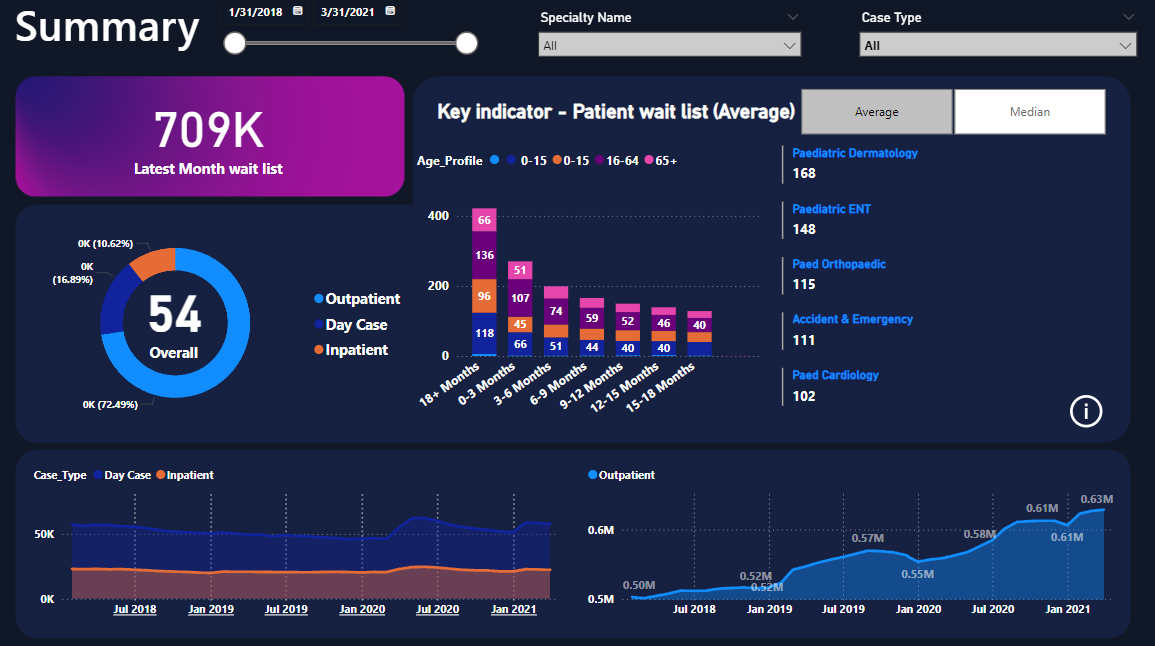

This screenshot's page, from the dashboard's own definition file:
{"tool":"powerbi","page":{"name":"Summary","canvas":[1280,720],"ordinal":0},"visuals":[{"type":"card","fields":{"Values":["All Data.Latest Month wait list"]},"box":[32,96,416,112],"z":0},{"type":"slicer","fields":{"Values":["Table.Calc Method"]},"box":[864,96,384,64],"z":1000},{"type":"donutChart","fields":{"Category":["All Data.Case_Type"],"Y":["All Data.Avg / Med wait list"]},"box":[48,240,416,240],"z":2000},{"type":"columnChart","fields":{"Y":["All Data.Avg / Med wait list"],"Category":["All Data.Time_Bands"],"Series":["All Data.Age_Profile"]},"box":[463.8,160.5,389.7,319.7],"z":3000},{"type":"multiRowCard","fields":{"Values":["All Data.Avg / Med wait list","All Data.Specialty_Name"]},"box":[864,160,384,320],"z":4000},{"type":"lineChart","fields":{"Category":["All Data.Archive_Date"],"Y":["Sum(All Data.Total)"],"Series":["All Data.Case_Type"]},"box":[48,512,592,176],"z":5000},{"type":"lineChart","fields":{"Category":["All Data.Archive_Date"],"Y":["Sum(All Data.Total)"],"Series":["All Data.Case_Type"]},"box":[656,512,592,176],"z":6000},{"type":"slicer","fields":{"Values":["All Data.Archive_Date"]},"box":[240,0,304,80],"z":7000},{"type":"slicer","fields":{"Values":["All Data.Specialty_Name"]},"box":[592,16,304,80],"z":8000},{"type":"slicer","fields":{"Values":["All Data.Case_Type"]},"box":[944,16,320,80],"z":9000},{"type":"textbox","title":"Summary","box":[16,0,224,96],"z":10000},{"type":"card","fields":{"Values":["All Data.Avg / Med wait list"]},"box":[105.7,288.2,192.1,130.4],"z":10001},{"type":"card","fields":{"Values":["All Data.Dynamic title"]},"box":[344.4,97.4,686.1,59],"z":10002},{"type":"actionButton","box":[1180.1,433.6,100.2,46.7],"z":10003}]}

Visuals, with their boxes in screenshot pixels (x1, y1, x2, y2), scaled from the page's 1280x720 canvas onto the 1155x646 screenshot:
card - All Data.Latest Month wait list: rect(29, 86, 404, 187)
slicer - Table.Calc Method: rect(780, 86, 1126, 144)
donutChart - All Data.Case_Type x All Data.Avg / Med wait list: rect(43, 215, 419, 431)
columnChart - All Data.Avg / Med wait list x All Data.Time_Bands: rect(419, 144, 770, 431)
multiRowCard - All Data.Avg / Med wait list x All Data.Specialty_Name: rect(780, 144, 1126, 431)
lineChart - All Data.Archive_Date x Sum(All Data.Total): rect(43, 459, 578, 617)
lineChart - All Data.Archive_Date x Sum(All Data.Total): rect(592, 459, 1126, 617)
slicer - All Data.Archive_Date: rect(217, 0, 491, 72)
slicer - All Data.Specialty_Name: rect(534, 14, 808, 86)
slicer - All Data.Case_Type: rect(852, 14, 1141, 86)
"Summary" textbox: rect(14, 0, 217, 86)
card - All Data.Avg / Med wait list: rect(95, 259, 269, 376)
card - All Data.Dynamic title: rect(311, 87, 930, 140)
actionButton: rect(1065, 389, 1154, 431)
